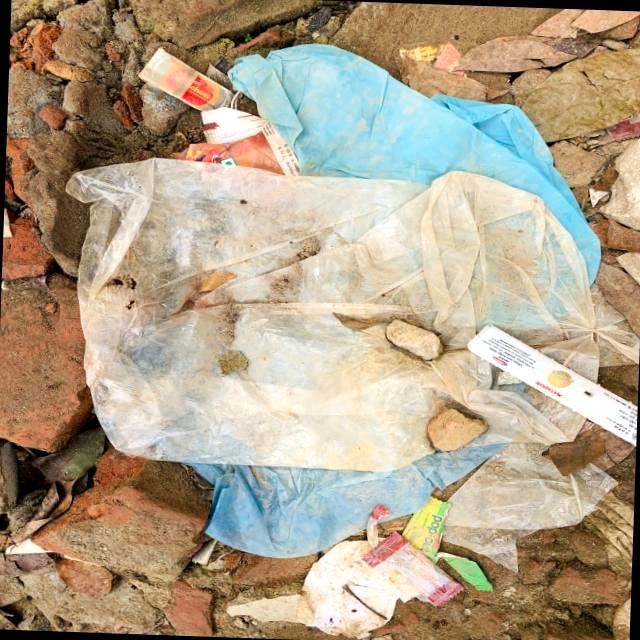polythene: (65, 54, 595, 515)
